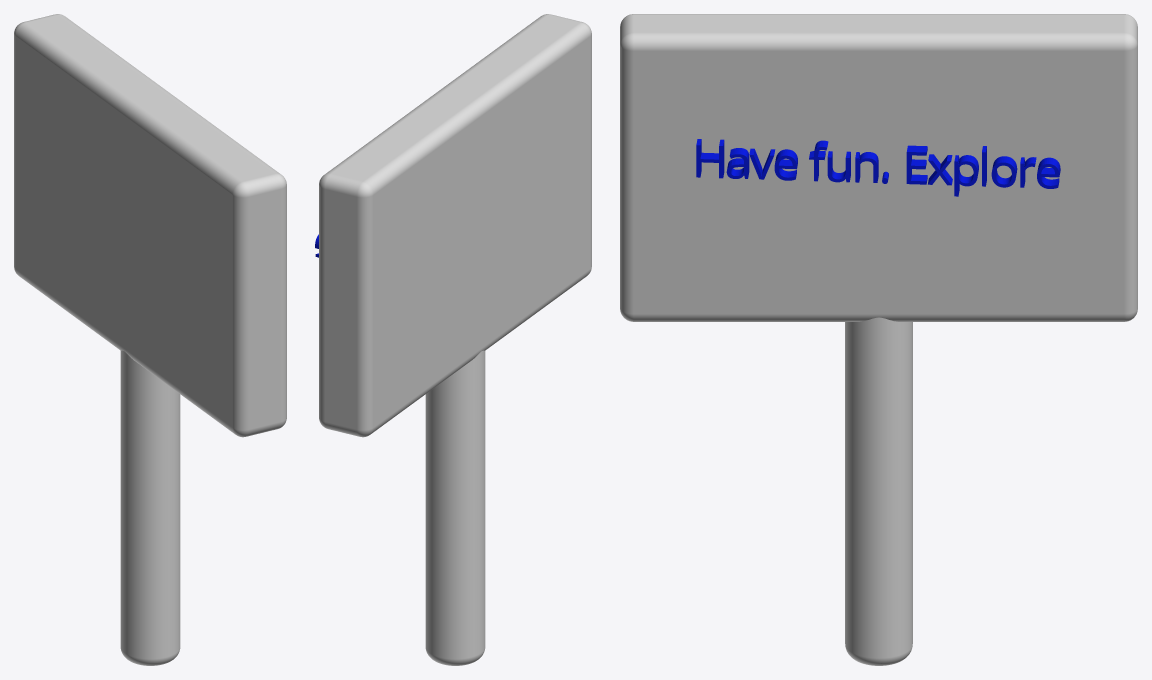
File: Project Name.fbx
3 renders of one model, left to right at view 1: azimuth 30°, elevation 25°; view 2: azimuth 150°, elevation 25°; view 3: azimuth 270°, elevation 25°, orthographic. The views are drawn at different scales.
Visible parts, largest first — view 1: Box, Cylinder; view 2: Box, Cylinder; view 3: Box, Cylinder.
Part boxes in pixels (x1,y1,x2,y2): Box: [14, 14, 286, 437]; Cylinder: [120, 350, 180, 665]; Box: [319, 14, 591, 437]; Cylinder: [425, 350, 485, 665]; Box: [620, 14, 1137, 321]; Cylinder: [845, 317, 912, 665].
Size of the model in its own units: 32.93 by 150 by 202.
